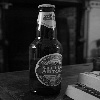beer: (28, 5, 64, 95)
